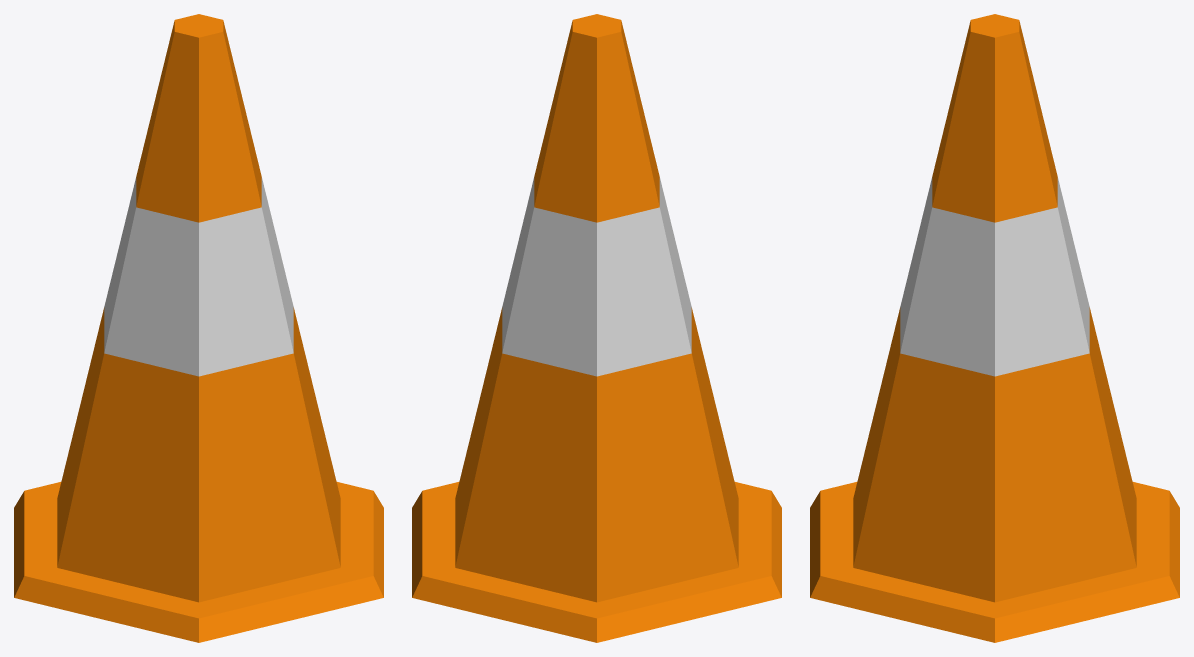
The model's file is trafficCone.fbx.
3 views of the same model, side by side, from view 1: azimuth 30°, elevation 25°; view 2: azimuth 150°, elevation 25°; view 3: azimuth 270°, elevation 25° (orthographic).
Visible parts, largest first — view 1: trafficCone1; view 2: trafficCone1; view 3: trafficCone1.
Part boxes in pixels (left/top/right/bottom): trafficCone1: left=14, top=14, right=383, bottom=642; trafficCone1: left=412, top=14, right=781, bottom=642; trafficCone1: left=810, top=14, right=1179, bottom=642.
Bounding box in the file's own units: 1.26 × 1.72 × 1.09.
